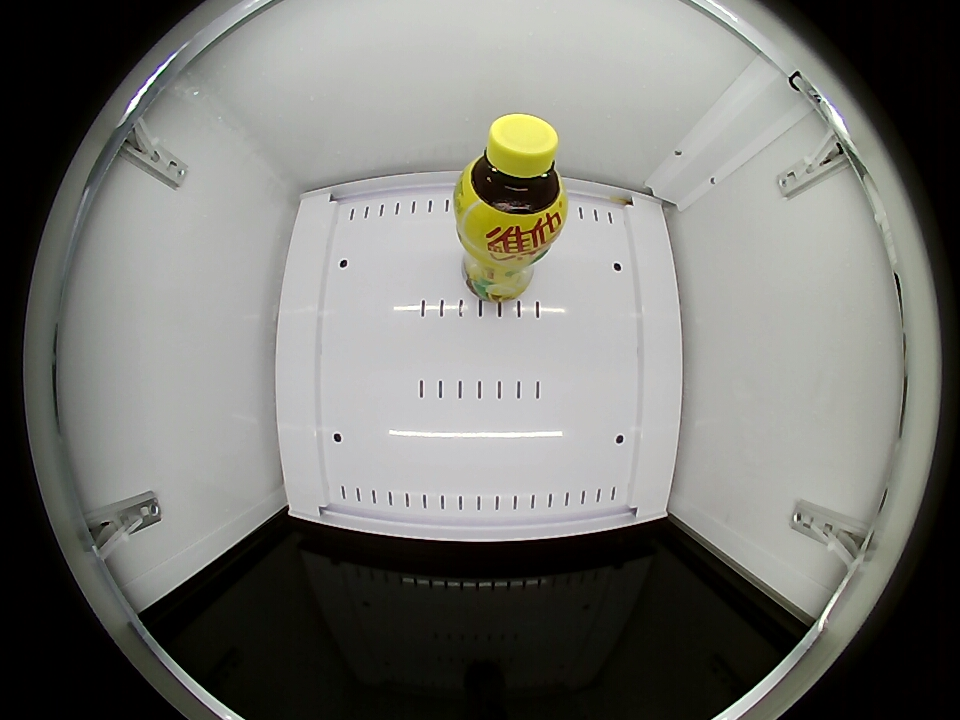weitaningmeng-bottle: (457, 113, 566, 244)
